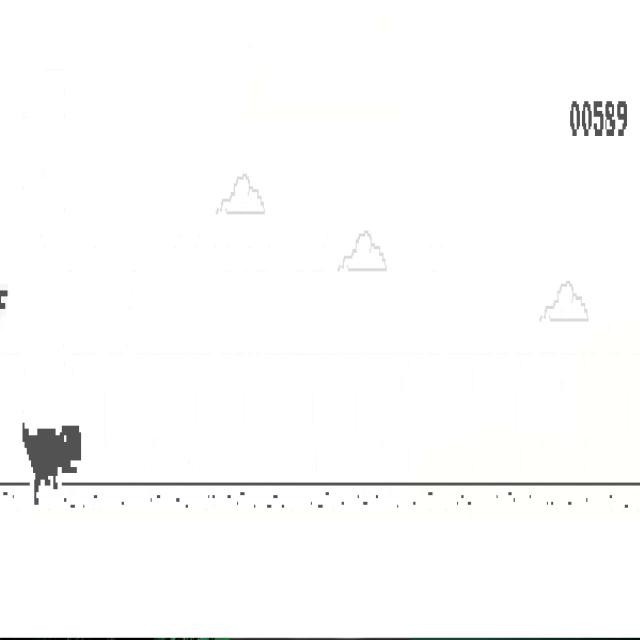dino: (22, 421, 82, 506)
ptero: (0, 284, 8, 316)
